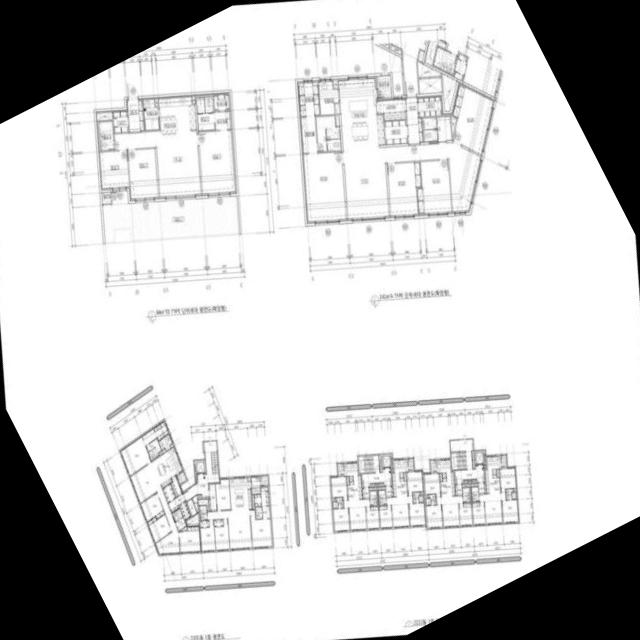background: (0, 0, 640, 640)
space_balconi: (176, 471, 186, 484), (260, 475, 268, 486)
space_bedroom: (451, 82, 494, 155), (302, 152, 346, 223), (198, 130, 236, 195), (387, 162, 421, 217), (417, 160, 451, 215), (127, 148, 158, 200), (98, 150, 129, 190), (120, 436, 150, 476), (250, 509, 272, 548), (146, 514, 171, 543), (140, 493, 164, 522), (179, 526, 200, 553), (215, 478, 230, 510), (214, 519, 229, 550), (200, 520, 215, 551), (406, 470, 423, 495), (499, 467, 516, 492), (330, 476, 347, 500), (423, 473, 440, 497), (332, 508, 349, 531), (425, 505, 442, 528), (501, 500, 518, 523), (408, 503, 425, 526), (458, 503, 472, 526), (365, 506, 379, 529), (379, 505, 392, 528), (472, 502, 485, 525), (200, 520, 209, 527), (214, 519, 223, 526)
space_dressroom: (296, 80, 319, 116), (299, 117, 317, 153), (214, 111, 232, 130), (153, 420, 169, 441), (213, 93, 230, 111), (260, 487, 269, 505), (254, 494, 261, 506)
space_elevator: (194, 460, 205, 474), (474, 451, 485, 465), (381, 454, 392, 468)
space_elevator_hall: (183, 441, 218, 501), (450, 439, 484, 483), (362, 455, 391, 486)
space_front: (405, 97, 423, 144), (126, 99, 144, 131), (417, 95, 442, 117), (112, 110, 128, 133), (168, 494, 185, 512), (179, 501, 191, 520), (163, 484, 175, 502), (208, 484, 216, 511), (385, 486, 393, 497), (362, 487, 369, 499), (478, 482, 485, 494), (455, 484, 462, 495)
space_kitchen: (338, 76, 384, 150), (158, 95, 196, 133), (151, 447, 182, 488), (229, 477, 252, 510), (436, 459, 455, 497), (343, 462, 362, 500), (484, 455, 501, 494), (391, 459, 408, 497)
space_living_room: (343, 143, 481, 220), (114, 131, 200, 198), (129, 462, 179, 554), (207, 509, 251, 549), (436, 496, 462, 527), (343, 499, 369, 530), (479, 493, 505, 524), (386, 496, 412, 527)
space_multipurpose_space: (318, 79, 338, 115), (143, 98, 159, 130)
space_other: (391, 40, 427, 95), (377, 98, 406, 120), (441, 73, 456, 111), (384, 120, 407, 144), (418, 77, 442, 94), (417, 61, 441, 77), (170, 475, 182, 497), (158, 434, 172, 451), (251, 476, 260, 494), (95, 111, 112, 120), (187, 499, 196, 516), (186, 513, 199, 524), (390, 45, 401, 55), (334, 103, 339, 125), (198, 499, 208, 510), (192, 495, 198, 512), (451, 116, 456, 136), (418, 50, 424, 62), (158, 449, 166, 455), (333, 79, 337, 88), (472, 452, 474, 468), (379, 455, 381, 471), (154, 98, 158, 106), (252, 495, 254, 509), (403, 472, 406, 480), (496, 469, 499, 477), (346, 476, 349, 484), (377, 486, 385, 489), (180, 526, 186, 530), (192, 95, 195, 103), (439, 473, 442, 481), (470, 483, 478, 486), (369, 487, 376, 490), (462, 484, 469, 487), (195, 475, 197, 483), (170, 443, 173, 448), (463, 480, 467, 483), (424, 494, 427, 498), (197, 495, 201, 498), (247, 477, 250, 481), (331, 498, 334, 501), (421, 491, 423, 495), (379, 483, 383, 485), (370, 484, 374, 486), (472, 480, 476, 482), (467, 480, 471, 482), (514, 488, 516, 491), (375, 483, 378, 485), (390, 469, 392, 471), (483, 466, 485, 467)
space_outdoor_room: (376, 75, 391, 98), (101, 192, 111, 204), (430, 460, 436, 472), (337, 463, 343, 475), (408, 458, 413, 471), (501, 455, 506, 467)
space_staircase: (358, 455, 374, 473), (451, 452, 467, 469), (210, 452, 218, 474)
space_toilet: (315, 116, 341, 151), (98, 121, 114, 150), (436, 116, 451, 140), (145, 438, 161, 460), (197, 113, 214, 130), (141, 428, 156, 445), (423, 129, 437, 141), (422, 117, 436, 129), (204, 96, 213, 113), (196, 97, 205, 113), (175, 517, 186, 530), (199, 505, 207, 520), (462, 487, 470, 502), (378, 490, 386, 504), (471, 487, 479, 501), (369, 491, 377, 505), (261, 506, 269, 518), (428, 494, 436, 505), (412, 492, 420, 503), (335, 497, 343, 508), (505, 489, 513, 499), (172, 511, 179, 522), (176, 508, 182, 519), (255, 513, 262, 519), (255, 507, 262, 513), (511, 492, 516, 499), (418, 496, 423, 502), (426, 498, 430, 505), (333, 502, 337, 508)
